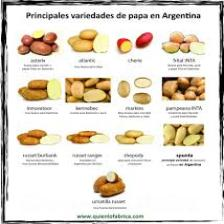Defected potato: (28, 40, 52, 55), (136, 31, 153, 49)
Diseased-fungal potato: (131, 91, 152, 105), (71, 81, 86, 100), (118, 80, 131, 99), (169, 30, 186, 44)
Potato: (71, 39, 93, 52), (81, 29, 98, 39)
